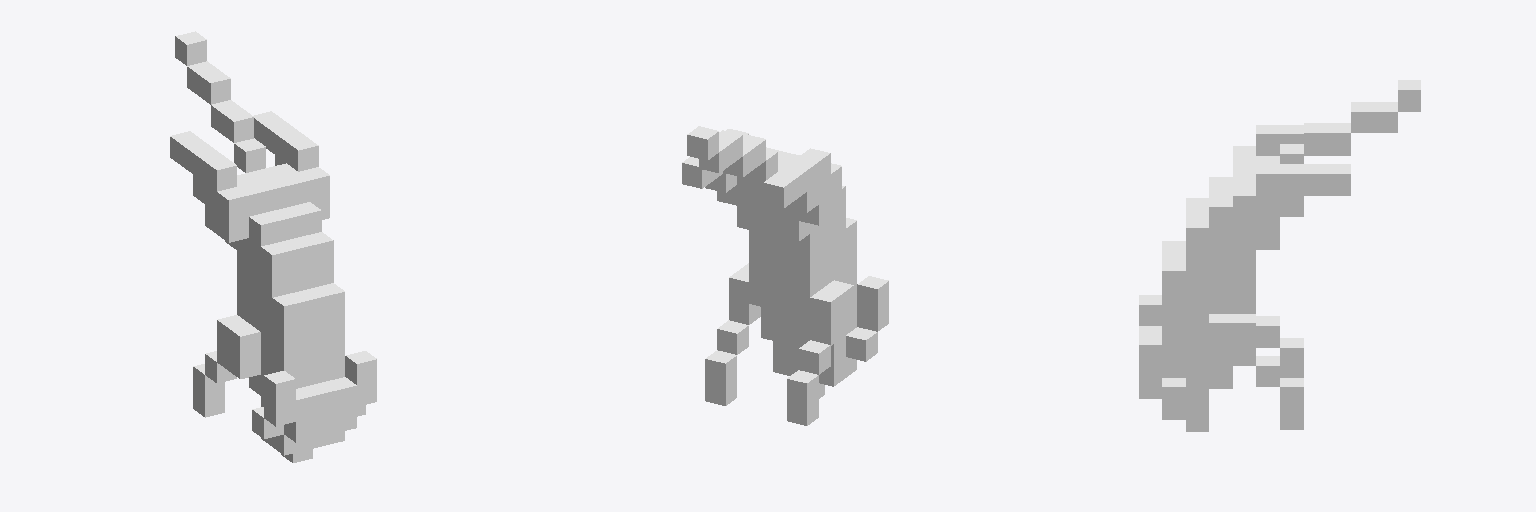
Rendered from rat_ledgeclimb_2.obj.
3 views of the same model, side by side, from view 1: azimuth 30°, elevation 25°; view 2: azimuth 150°, elevation 25°; view 3: azimuth 270°, elevation 25° (orthographic).
Parts seen in each view (by area): view 1: object 1; view 2: object 1; view 3: object 1.
Part boxes in pixels (x1,y1,x2,y2): object 1: (170,31,376,462); object 1: (682,126,888,425); object 1: (1139,80,1420,431).
Bounding box in the file's own units: 0.5 × 1.6 × 1.2.